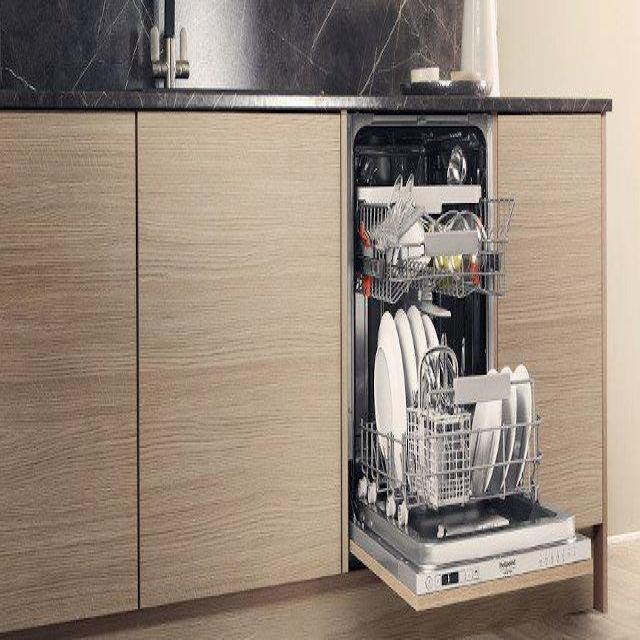dishwasher: (346, 106, 595, 618)
